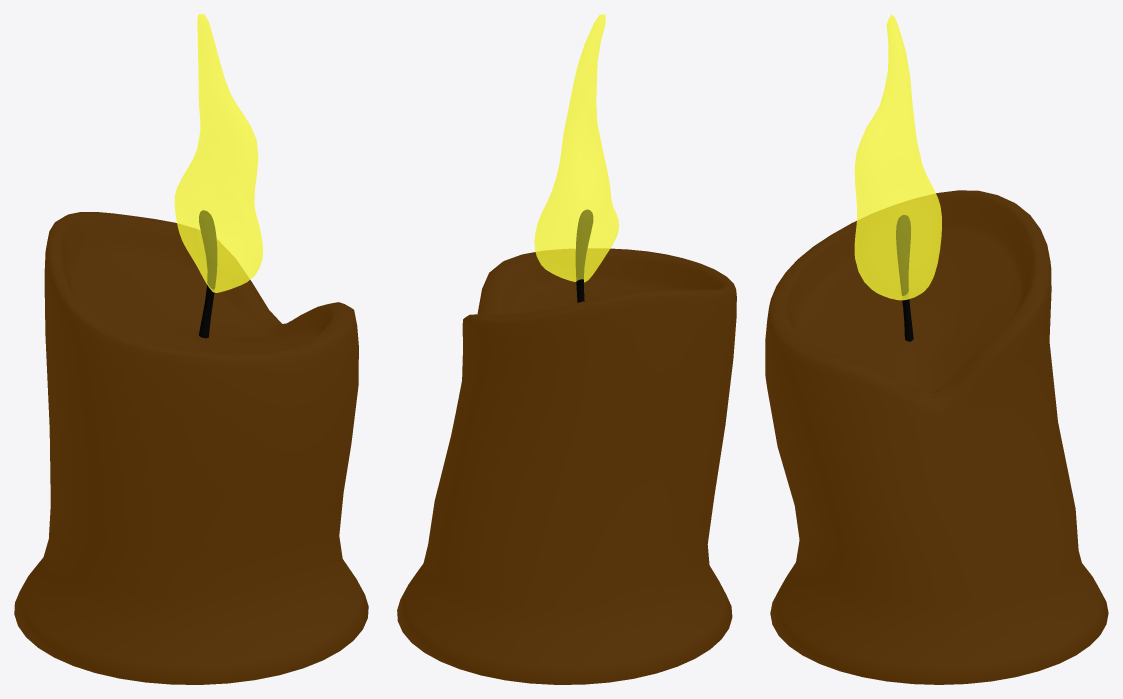
Rendered from candle2.glb.
3 views of the same model, side by side, from view 1: azimuth 30°, elevation 25°; view 2: azimuth 150°, elevation 25°; view 3: azimuth 270°, elevation 25° (orthographic). The views are drawn at different scales.
Visible parts, largest first — view 1: pCone2; view 2: pCone2; view 3: pCone2.
Boxes of the visible parts, x1,y1,x2,y2 form: pCone2: (14,14,368,684); pCone2: (397,14,736,684); pCone2: (765,14,1108,684).
Size of what is drawn, in the model's own units: 0.1965 by 0.3817 by 0.1992.
